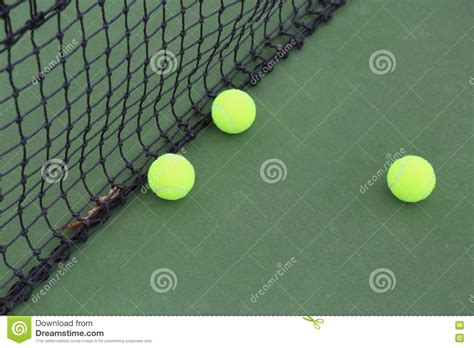tennis_ball: (387, 155, 436, 201), (148, 153, 195, 200), (211, 89, 256, 134)
